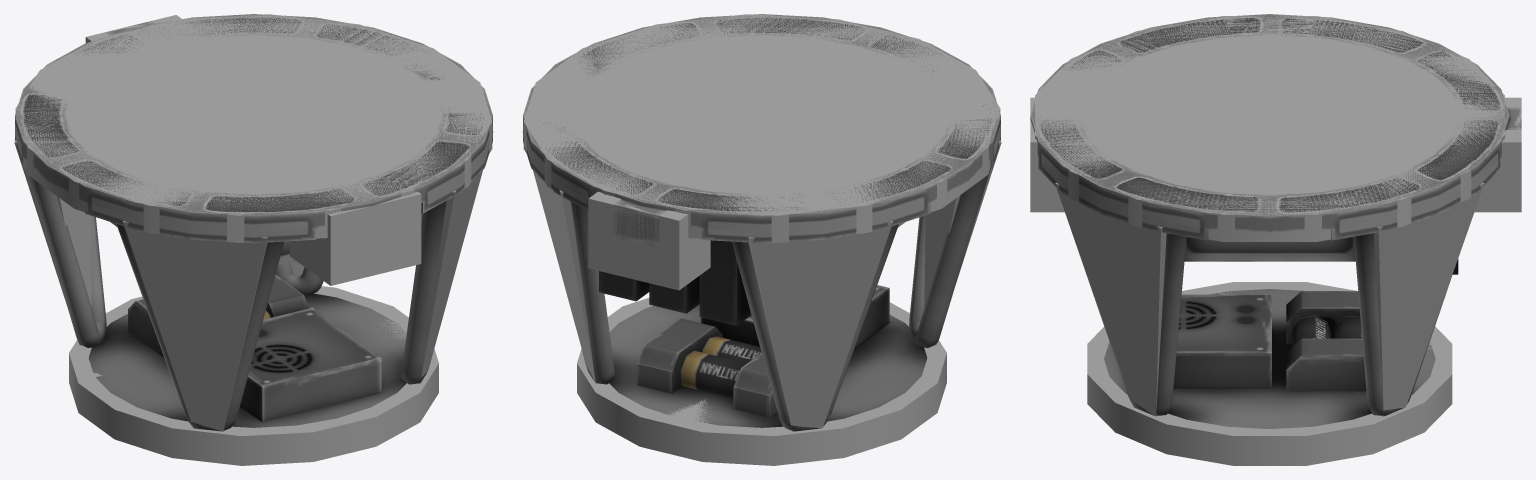
File: bluedog_LunarOrbiter_Core.fbx
3 renders of one model, left to right at view 1: azimuth 30°, elevation 25°; view 2: azimuth 150°, elevation 25°; view 3: azimuth 270°, elevation 25°, orthographic.
Visible parts, largest first — view 1: pCylinder211, pCylinder178, pCylinder212, pCube125, pTorus1 (×4), pCylinder179, pCube95, pCube121, pCube124, pCube126, pCube91, pCube90; view 2: pCylinder211, pCylinder178, pCylinder212, pCube126, pTorus1 (×3), pCylinder179, pCube121, pCube123, pCube91, pCube93, pCylinder181, pCube95 (+6 smaller); view 3: pCylinder211, pCylinder178, pCylinder212, pCube124, pCube123, pCylinder179, pCube95, pTorus1 (×2), pCube91, pCube121, pCube87, pCube90 (+2 smaller).
Part boxes in pixels (x1=…): pCylinder211: x1=15, y1=14, x2=492, y2=242; pCylinder178: x1=15, y1=14, x2=492, y2=243; pCylinder212: x1=69, y1=286, x2=438, y2=465; pCube125: x1=123, y1=221, x2=267, y2=431; pTorus1 (×4): x1=28, y1=175, x2=446, y2=431; pCylinder179: x1=88, y1=293, x2=406, y2=427; pCube95: x1=240, y1=307, x2=381, y2=422; pCube121: x1=85, y1=15, x2=421, y2=285; pCube124: x1=418, y1=131, x2=493, y2=383; pCube126: x1=14, y1=140, x2=91, y2=345; pCube91: x1=266, y1=274, x2=308, y2=317; pCube90: x1=128, y1=299, x2=163, y2=356; pCylinder211: x1=523, y1=14, x2=1000, y2=242; pCylinder178: x1=523, y1=14, x2=1000, y2=243; pCylinder212: x1=577, y1=298, x2=946, y2=465; pCube126: x1=748, y1=221, x2=892, y2=431; pTorus1 (×3): x1=570, y1=168, x2=990, y2=431; pCylinder179: x1=609, y1=304, x2=927, y2=427; pCube121: x1=588, y1=191, x2=710, y2=290; pCube123: x1=522, y1=131, x2=597, y2=383; pCube91: x1=637, y1=318, x2=722, y2=393; pCube93: x1=699, y1=240, x2=751, y2=325; pCylinder181: x1=680, y1=350, x2=746, y2=398; pCube95: x1=701, y1=285, x2=889, y2=347; pCylinder211: x1=1035, y1=16, x2=1504, y2=241; pCylinder178: x1=1030, y1=14, x2=1509, y2=240; pCylinder212: x1=1087, y1=282, x2=1452, y2=465; pCube124: x1=1055, y1=182, x2=1166, y2=416; pCube123: x1=1374, y1=182, x2=1484, y2=416; pCylinder179: x1=1104, y1=289, x2=1435, y2=428; pCube95: x1=1173, y1=294, x2=1271, y2=388; pTorus1 (×2): x1=1057, y1=190, x2=1450, y2=415; pCube91: x1=1286, y1=338, x2=1366, y2=391; pCube121: x1=1030, y1=97, x2=1521, y2=212; pCube87: x1=1184, y1=236, x2=1355, y2=261; pCube90: x1=1286, y1=291, x2=1360, y2=343.
Bounding box in the file's own units: 0.625 × 0.3938 × 0.641.
2 materials, 1 textured.
